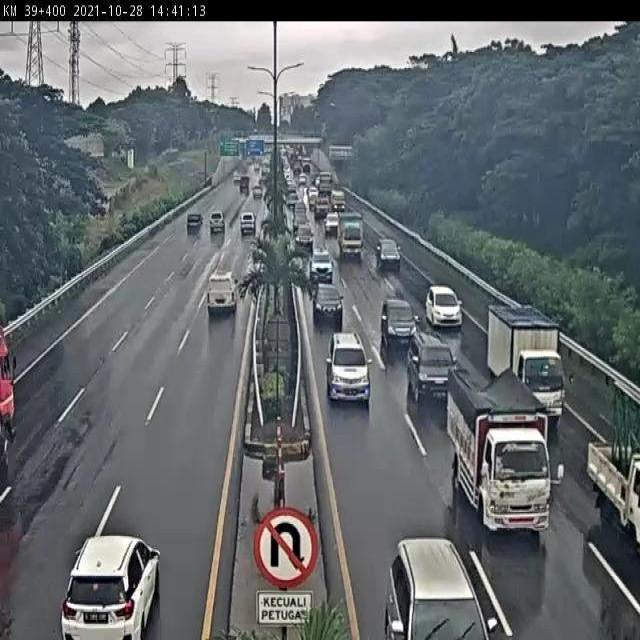car: (48, 544, 167, 640), (404, 334, 458, 406), (326, 332, 371, 405), (381, 296, 417, 351), (207, 261, 244, 312), (426, 284, 464, 329), (313, 283, 344, 325), (310, 249, 334, 287), (378, 237, 401, 275), (240, 212, 259, 233), (210, 208, 225, 233), (185, 208, 199, 231)
truck-m-: (449, 368, 552, 535)
truck-s-: (486, 299, 564, 421)
